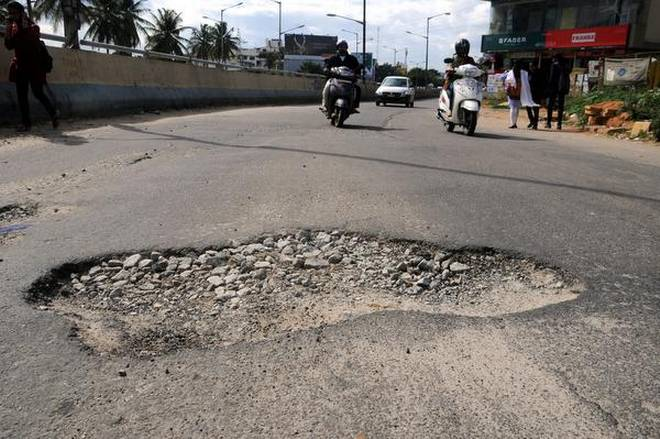pothole: (12, 206, 600, 366)
